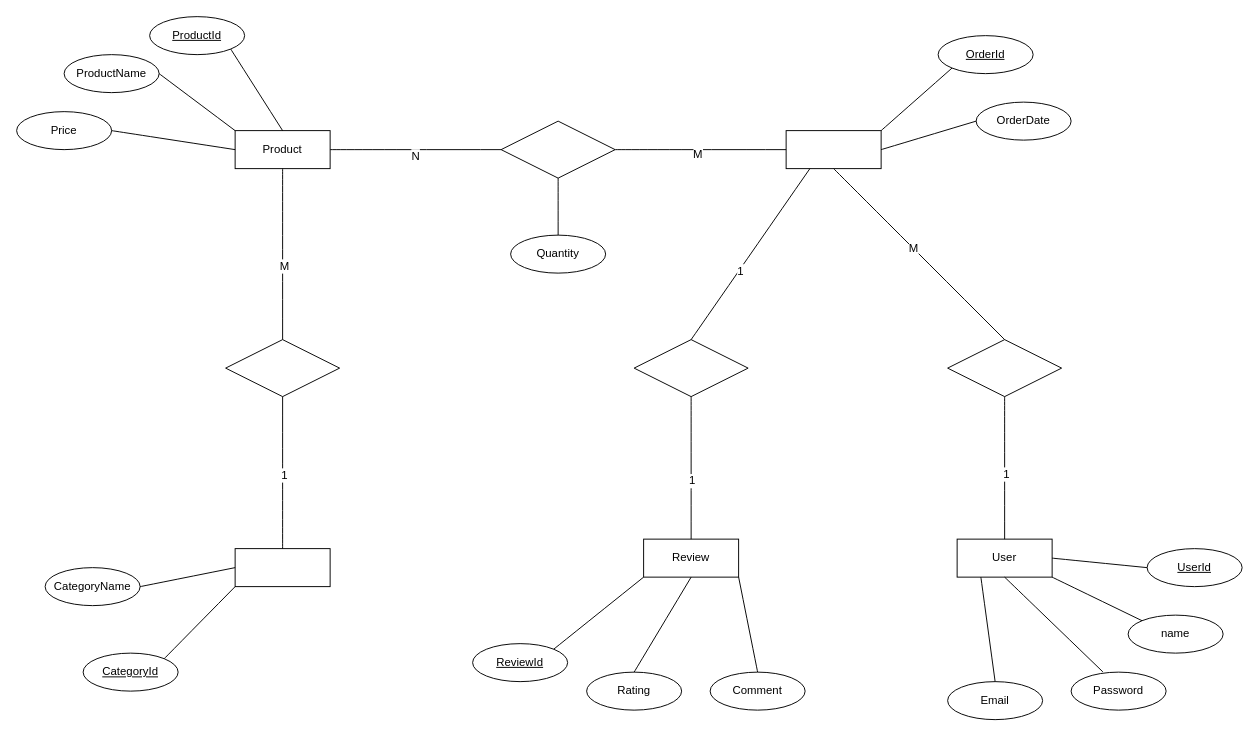
Some shapes in this 1259 by 736 pixel diagram are drawn without their labels. The centre of each missing label's shape, as x and y in pixels:
Category: point (282, 567)
Contain: point (557, 149)
Has: point (282, 368)
Have: point (690, 368)
Order: point (833, 149)
Place_Order: point (1004, 368)
